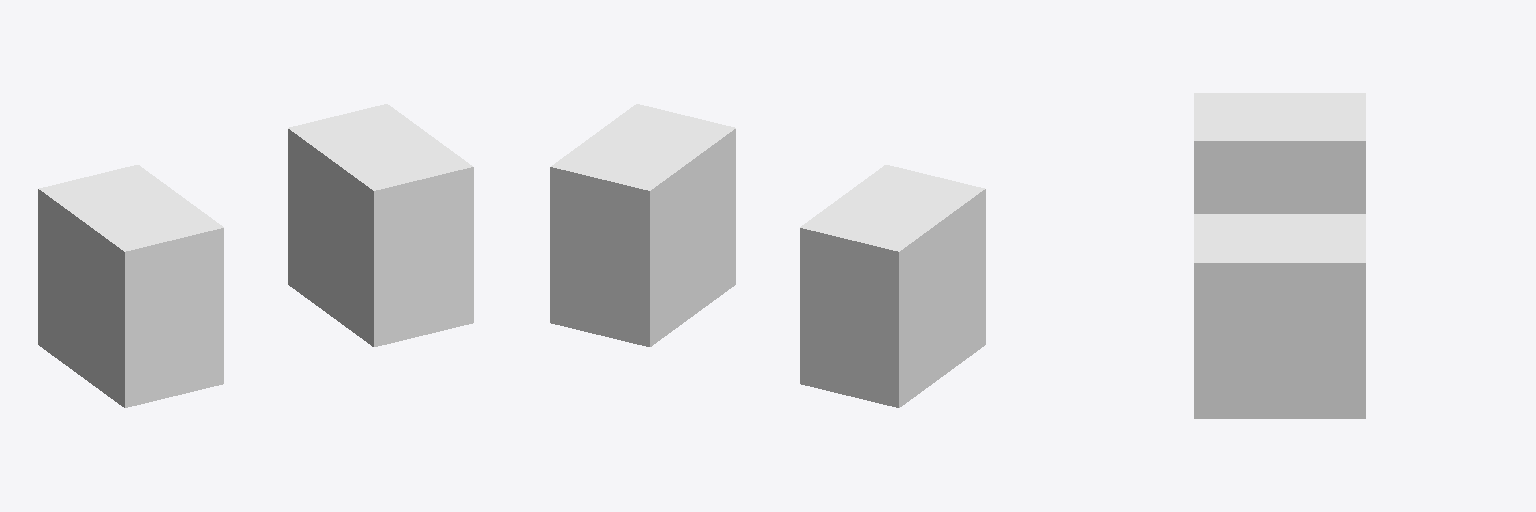
Rendered from PigRider-1-BackLegs.obj.
3 renders of one model, left to right at view 1: azimuth 30°, elevation 25°; view 2: azimuth 150°, elevation 25°; view 3: azimuth 270°, elevation 25°, orthographic.
Visible parts, largest first — view 1: BackLegs; view 2: BackLegs; view 3: BackLegs.
Part boxes in pixels (bbox=[...]): BackLegs: bbox=[38, 104, 473, 407]; BackLegs: bbox=[550, 104, 985, 407]; BackLegs: bbox=[1194, 93, 1365, 418].
Size of the model in its own units: 0.7 by 0.3 by 0.3.